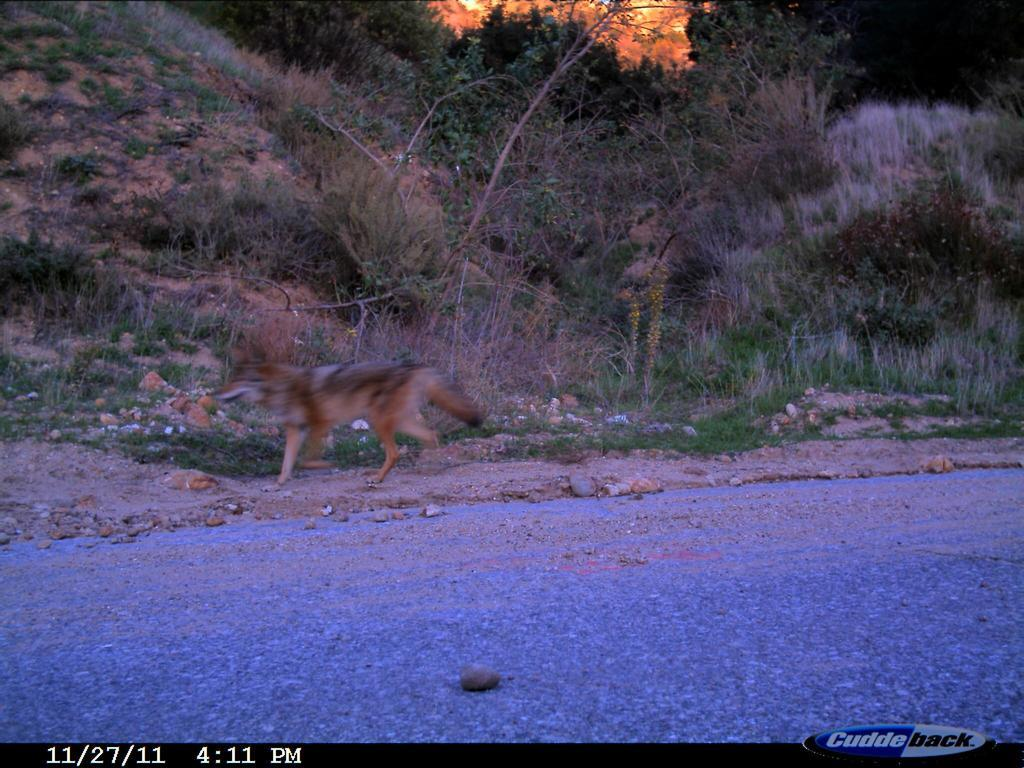coyote: (201, 335, 496, 495)
